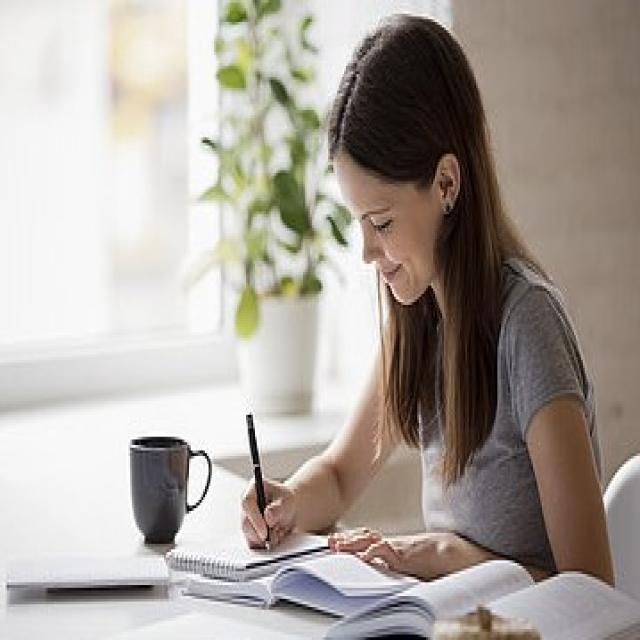studying-person: (144, 4, 639, 640)
